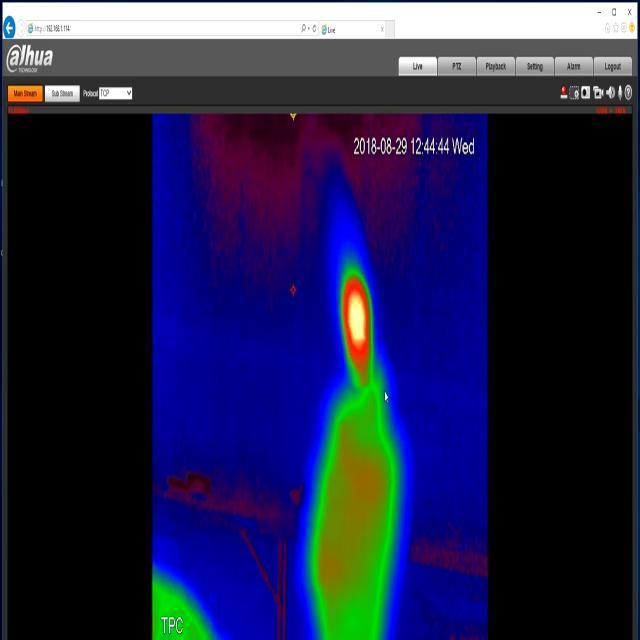fire: (338, 254, 377, 389)
